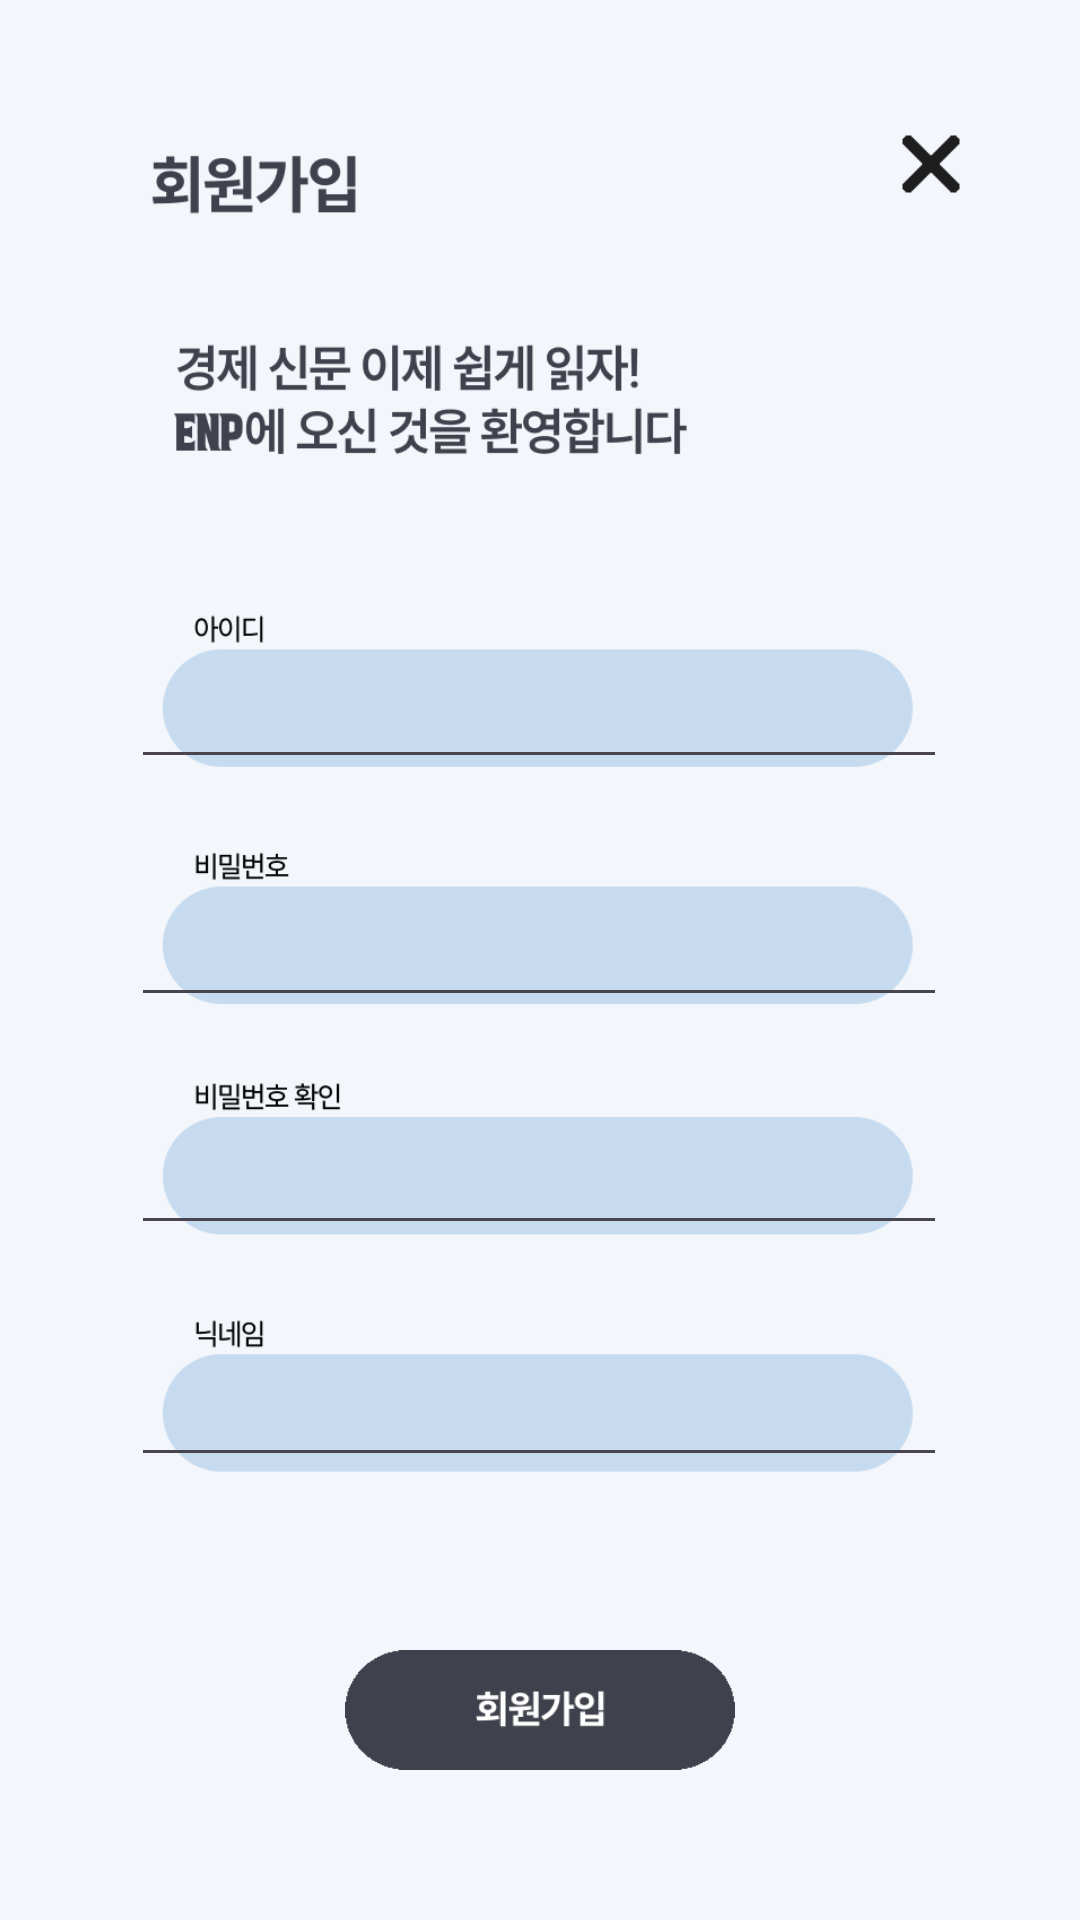

Screen size 1080px x 1920px. Icon name, then its box in pixels as (x1, y1, x2, y2):
close: (902, 135, 960, 193)
